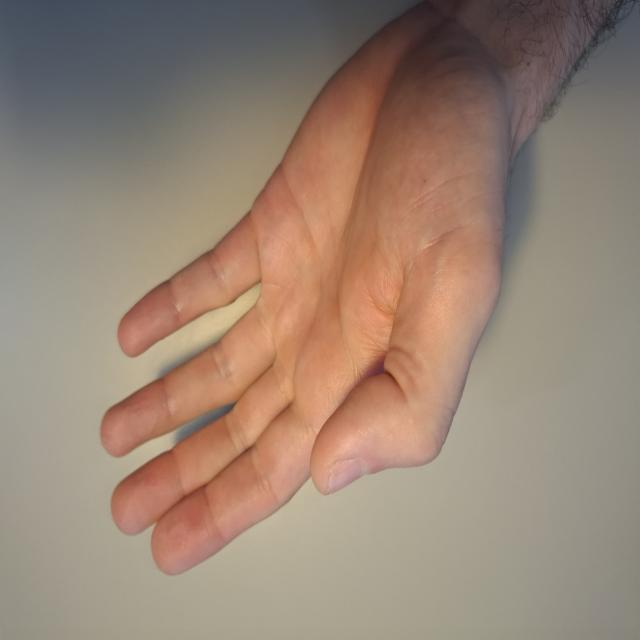glove_off: (96, 6, 518, 578)
